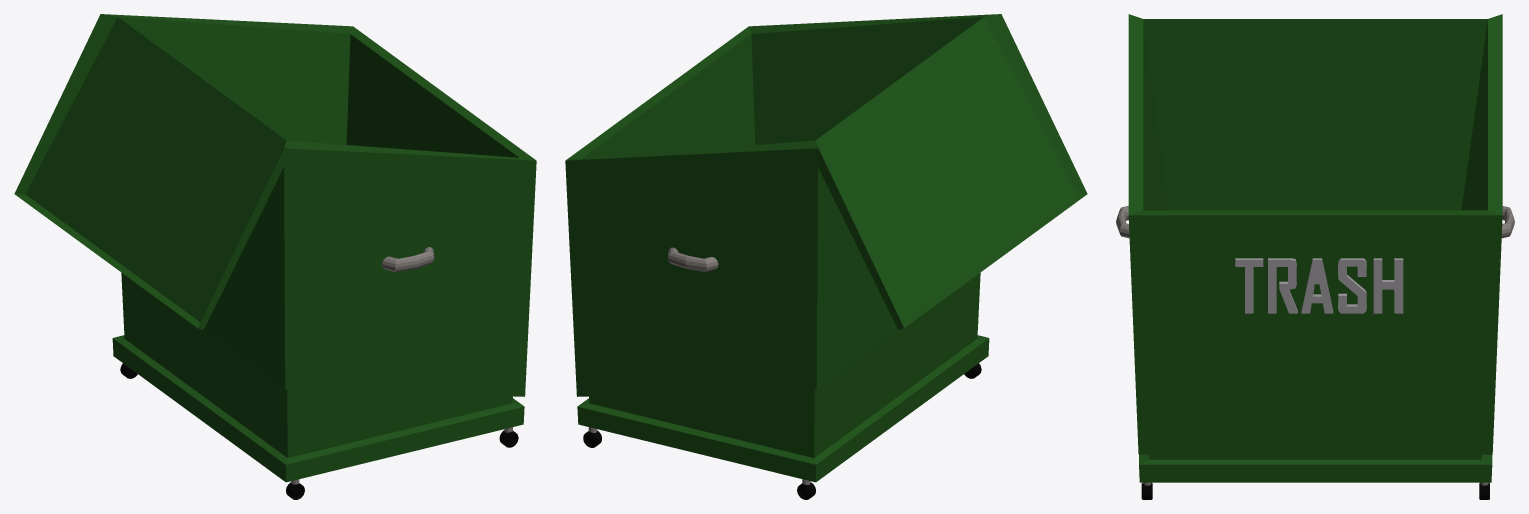
The model's file is trashbak com.fbx.
The picture shows the model from 3 angles, left to right: view 1: azimuth 30°, elevation 25°; view 2: azimuth 150°, elevation 25°; view 3: azimuth 270°, elevation 25°; orthographic projection.
Visible parts, largest first — view 1: Cube.001; view 2: Cube.001; view 3: Cube.001.
Boxes of the visible parts, left/top/right/bottom form: Cube.001: left=14, top=14, right=536, bottom=499; Cube.001: left=565, top=14, right=1087, bottom=499; Cube.001: left=1116, top=14, right=1514, bottom=499.
Bounding box in the file's own units: 2.01 × 2.04 × 2.
